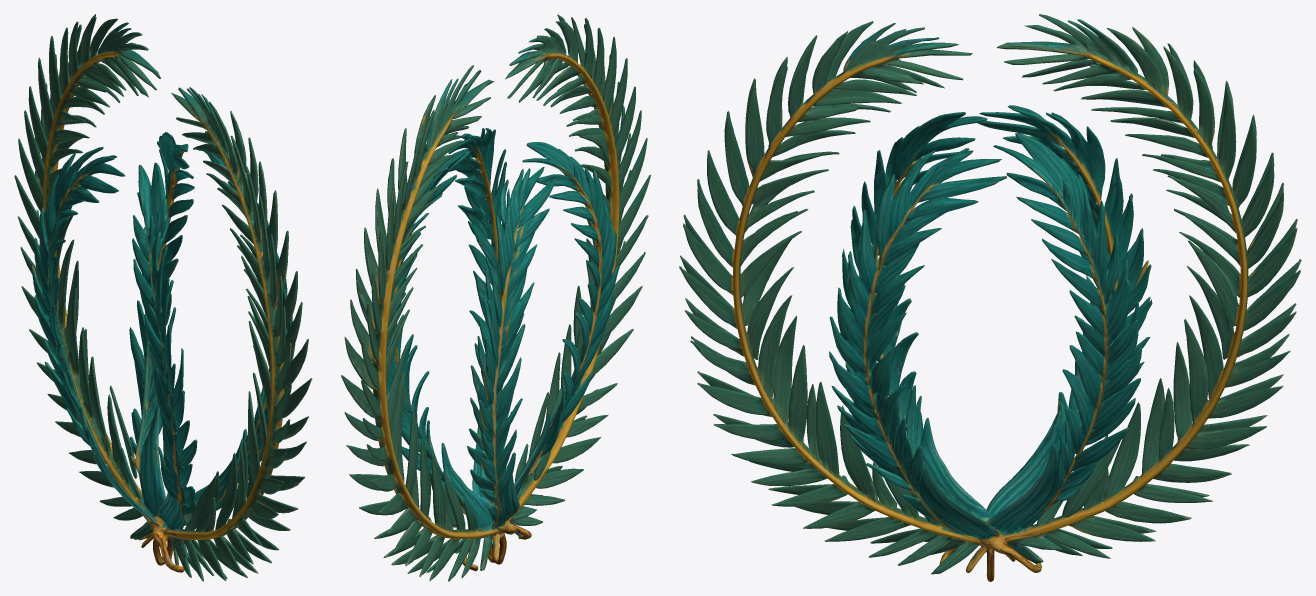
File: palm.glb
3 renders of one model, left to right at view 1: azimuth 30°, elevation 25°; view 2: azimuth 150°, elevation 25°; view 3: azimuth 270°, elevation 25°, orthographic. The views are drawn at different scales.
Parts seen in each view (by area): view 1: tripo_node_8817fff1-1d46-4816-a2d5-9e9743fbcc89; view 2: tripo_node_8817fff1-1d46-4816-a2d5-9e9743fbcc89; view 3: tripo_node_8817fff1-1d46-4816-a2d5-9e9743fbcc89.
Part boxes in pixels (box(x1,y1,x2,y2)): tripo_node_8817fff1-1d46-4816-a2d5-9e9743fbcc89: box(14, 14, 312, 581); tripo_node_8817fff1-1d46-4816-a2d5-9e9743fbcc89: box(341, 14, 650, 581); tripo_node_8817fff1-1d46-4816-a2d5-9e9743fbcc89: box(679, 14, 1301, 581).
Size of the model in its own units: 0.2793 by 0.9815 by 0.9773.
Materials: 1 (1 with a texture image).
